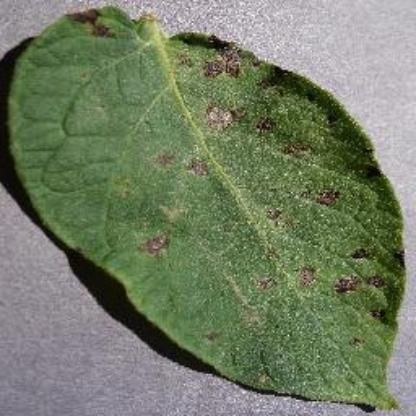Early-Blight: (5, 7, 397, 408)
